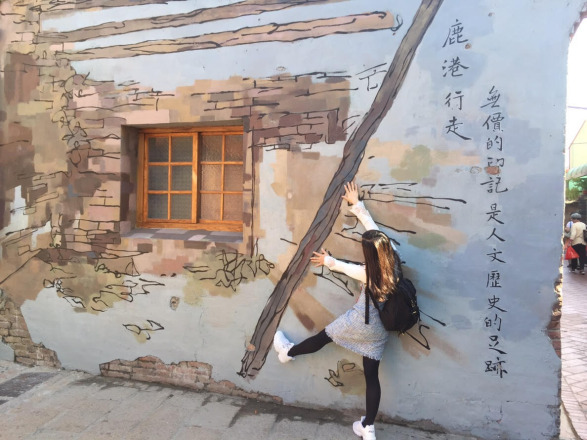people: (273, 181, 418, 440)
